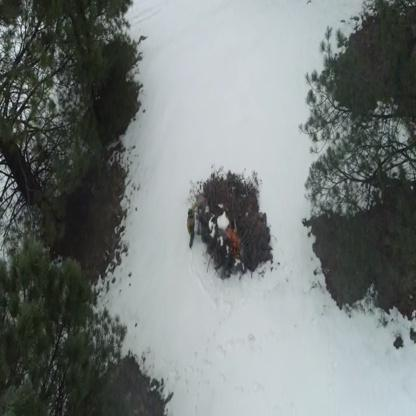Fire: (228, 227, 242, 256)
